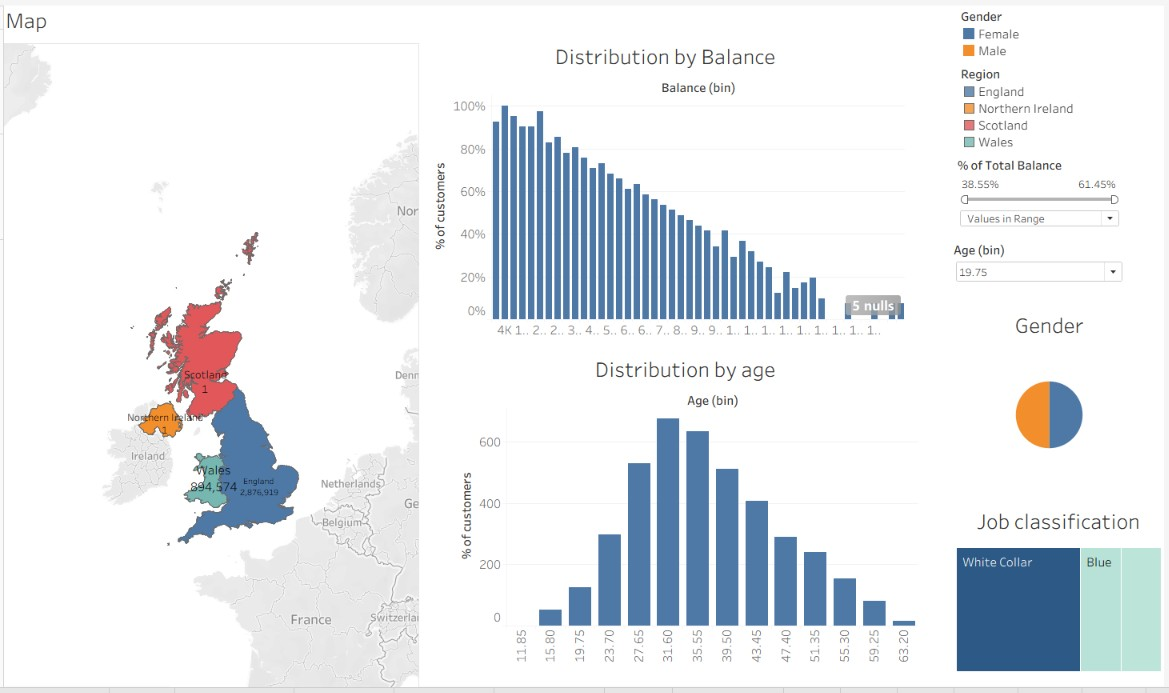

Layout of this report page (visuals, bound fields, positions):
{"tool":"tableau","page":{"name":"Dashboard 1","canvas":[1720,1160],"ordinal":0},"visuals":[{"type":"legend","title":"filled map","param":"[federated.0evc8dn02fonoy168edng1woamt7].[none:Region:nk]","box":[8,8,1704,349.3]},{"type":"worksheet","title":"filled map","mark":"Multipolygon","box":[8,357.3,1704,349.3]},{"type":"worksheet","title":"distribution by age","mark":"Automatic","box":[8,706.6,1704,349.3]},{"type":"worksheet","title":"% of Customers","mark":"Automatic","rows":["Customer ID"],"cols":["Balance (bin)"],"box":[8,1056,1704,32]},{"type":"legend","title":"Gender Pie Chart","param":"[federated.0evc8dn02fonoy168edng1woamt7].[none:Gender:nk]","box":[8,1088,1704,32]},{"type":"filter","title":"distribution by age","param":"[federated.0evc8dn02fonoy168edng1woamt7].[none:Age (bin):ok]","box":[8,1120,1704,32]}]}

Visuals, with their boxes on the page's 1720x1160 design canvas (x1, y1, x2, y2). These are canvas units, not pixel positions in the 1169x693 screenshot, which may show the page scaled, cropped or inside an application window:
"filled map" legend: 8 8 1712 357
"filled map" worksheet (Multipolygon marks): 8 357 1712 707
"distribution by age" worksheet: 8 707 1712 1056
"% of Customers" worksheet: 8 1056 1712 1088
"Gender Pie Chart" legend: 8 1088 1712 1120
"distribution by age" filter: 8 1120 1712 1152
